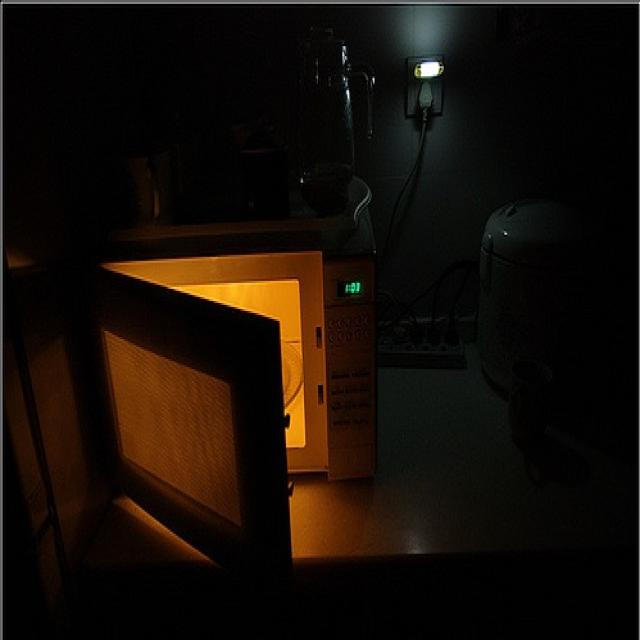Cup: (303, 38, 380, 182), (497, 352, 565, 442)
Table: (12, 272, 640, 640)
